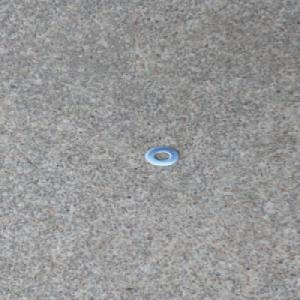Washer: (144, 145, 181, 167)
